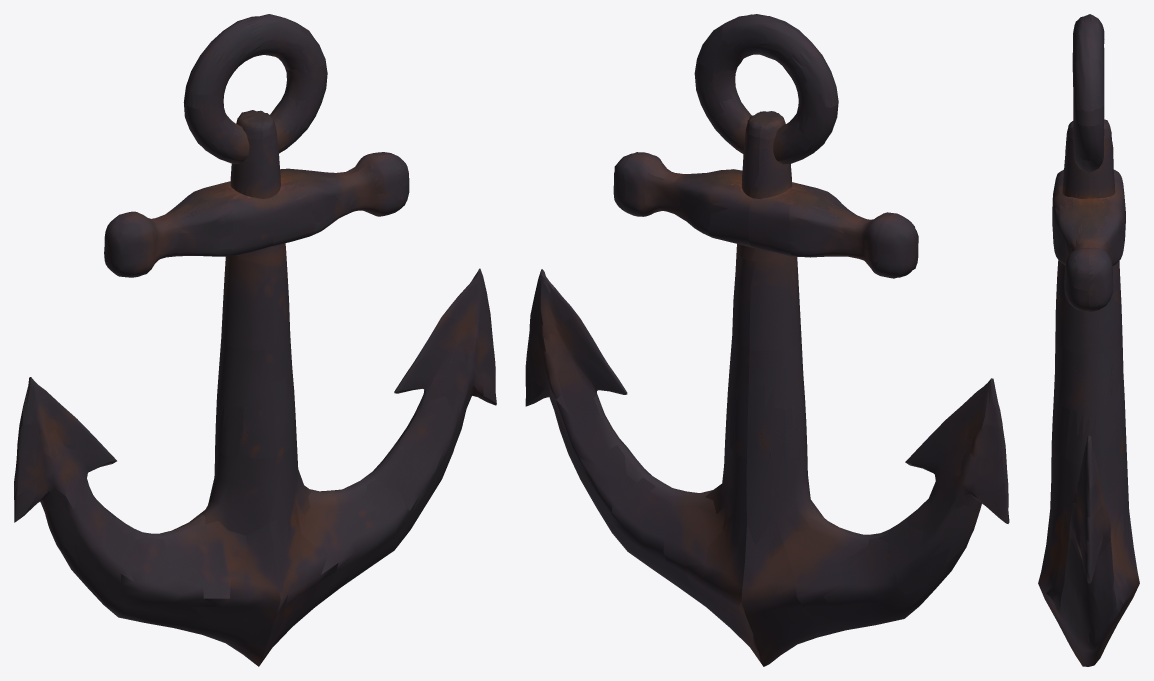
Rendered from ancla_pirata.glb.
The picture shows the model from 3 angles, left to right: view 1: azimuth 30°, elevation 25°; view 2: azimuth 150°, elevation 25°; view 3: azimuth 270°, elevation 25°; orthographic projection.
Bounding box in the file's own units: 0.7793 × 1 × 0.1436.
Materials: 1 (1 with a texture image).
